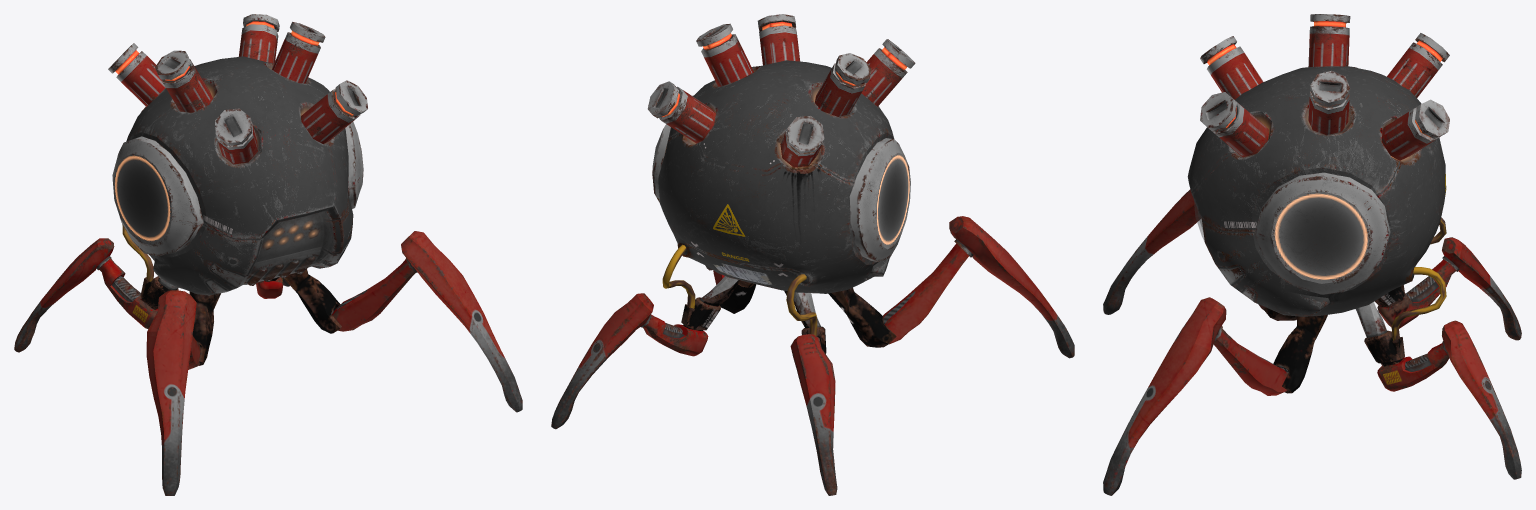
Rendered from bomb_crawler.glb.
3 renders of one model, left to right at view 1: azimuth 30°, elevation 25°; view 2: azimuth 150°, elevation 25°; view 3: azimuth 270°, elevation 25°, orthographic. The views are drawn at different scales.
Visible parts, largest first — view 1: Object_3, Object_2; view 2: Object_3; view 3: Object_3.
Boxes of the visible parts, x1=… form: Object_3: x1=14, y1=14, x2=522, y2=495; Object_2: x1=249, y1=211, x2=333, y2=278; Object_3: x1=551, y1=14, x2=1074, y2=495; Object_3: x1=1103, y1=14, x2=1521, y2=495.
Size of the model in its own units: 0.0336 by 0.0309 by 0.0319.
Materials: 2 (2 with a texture image).
